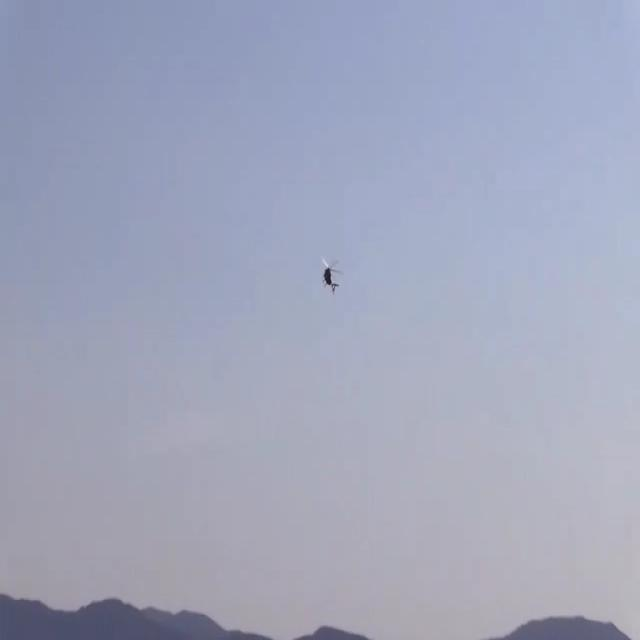Helicopter: (306, 232, 364, 304)
